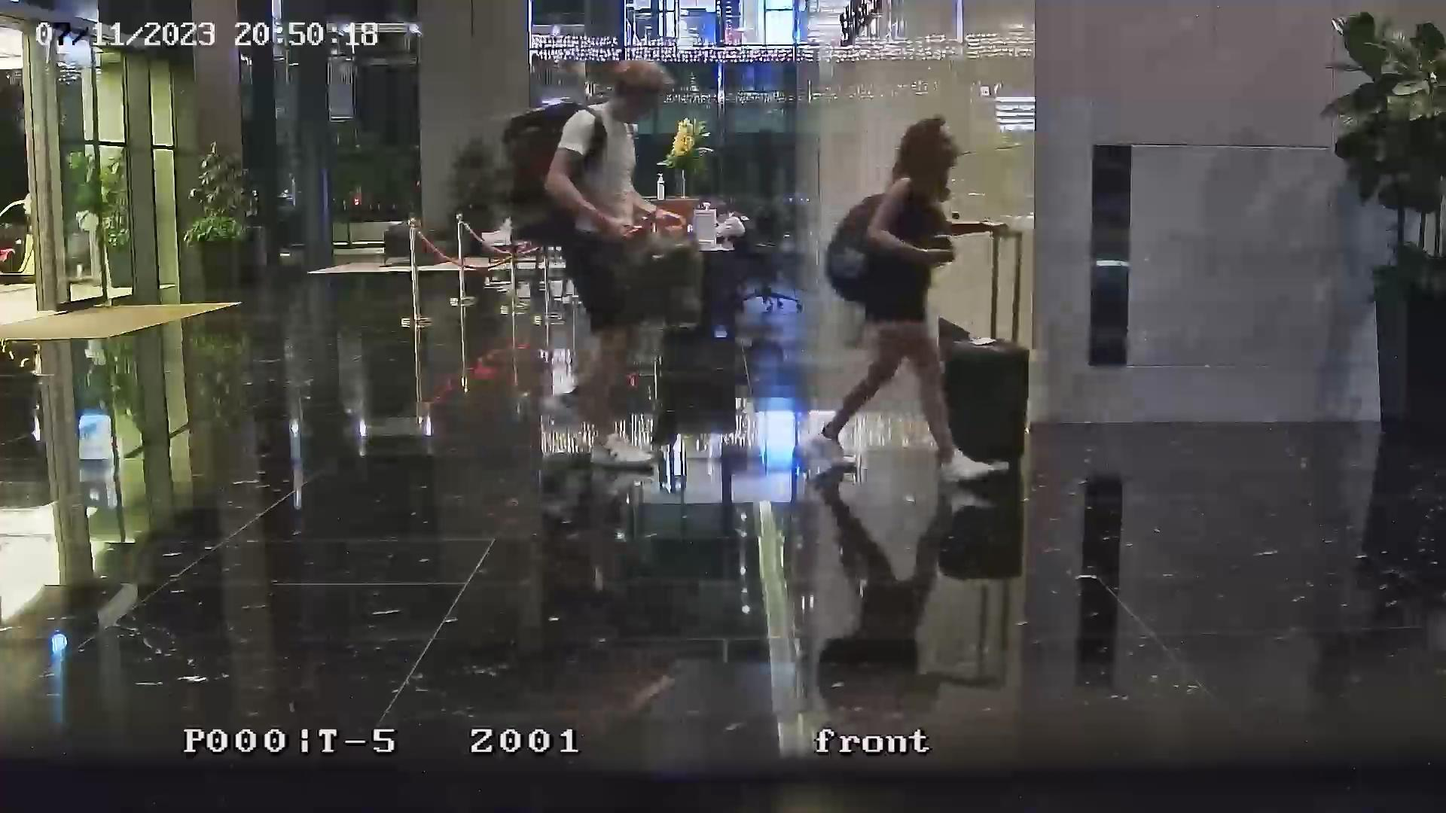person: (813, 116, 1004, 483), (541, 59, 693, 470), (712, 198, 761, 268)
